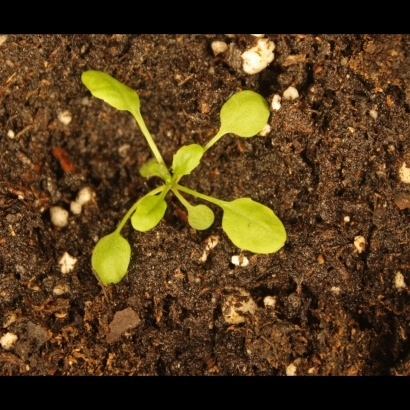leaf: (219, 190, 292, 259), (71, 60, 148, 125), (215, 83, 279, 146), (87, 230, 143, 291), (166, 133, 211, 188), (126, 184, 169, 238), (179, 198, 219, 236), (129, 152, 170, 186)
